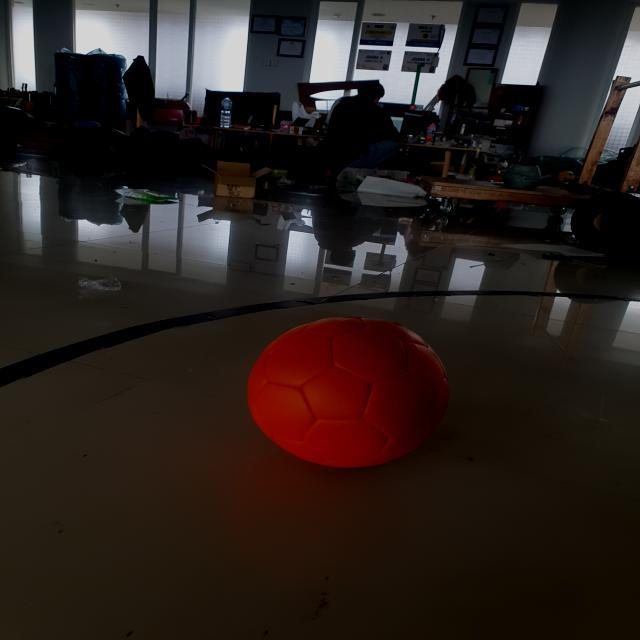bola: (236, 306, 463, 474)
